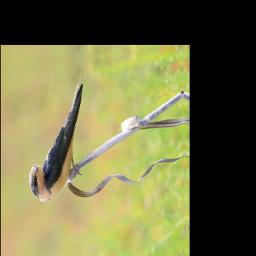Swallow: (23, 70, 90, 206)
